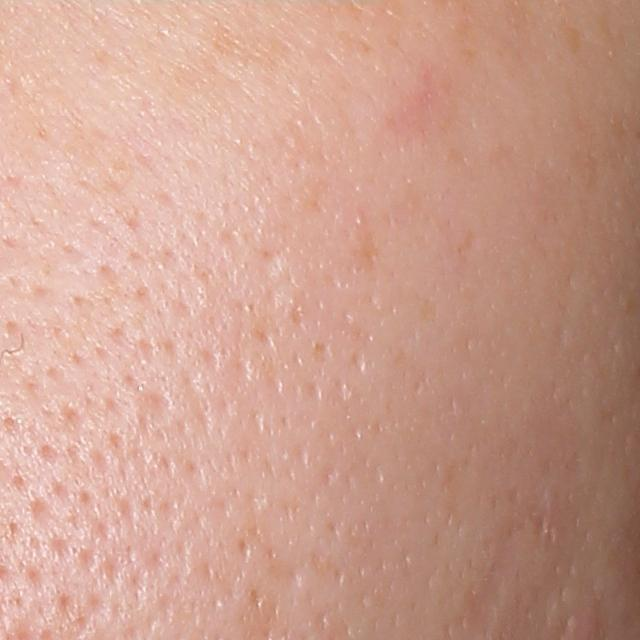atrophic_scar: (133, 385, 178, 427)
melasma: (558, 8, 585, 57)
